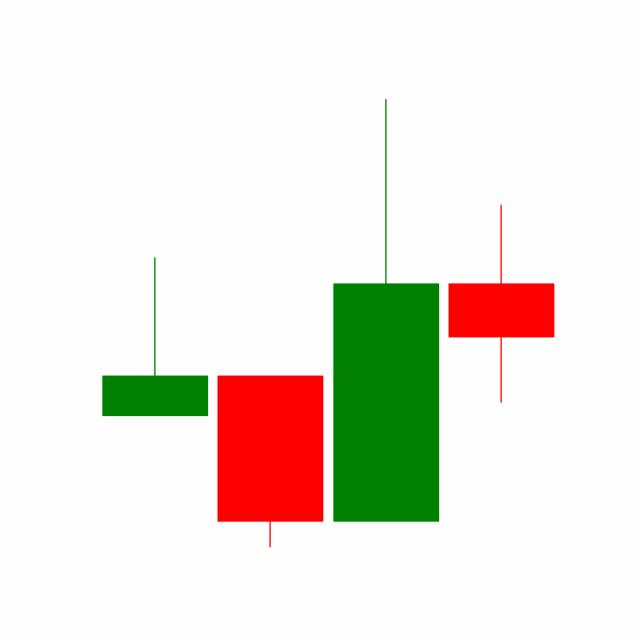Spinning Top: (443, 202, 559, 404)
